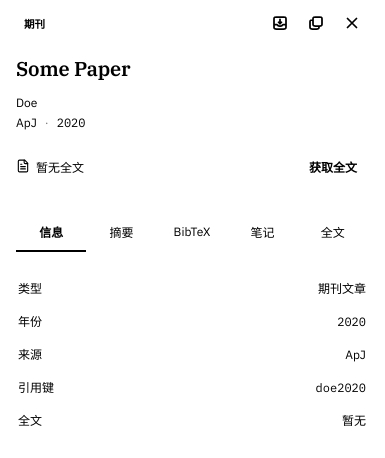
Test: RefDetail upload tracking › hello replay of a running upload restores tracking without a local upload
Click the tab "全文" at x=333, y=233, box x1=298 y1=214 x2=368 y2=252
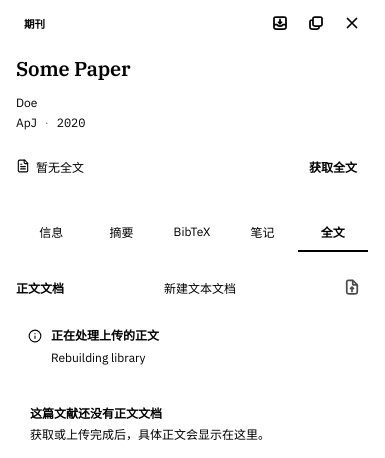
Expected: the text "Rebuilding library" is shown, x1=51 y1=348 x2=159 y2=367
Expected: the button named "获取全文…" is disabled, x1=336 y1=271 x2=368 y2=303
